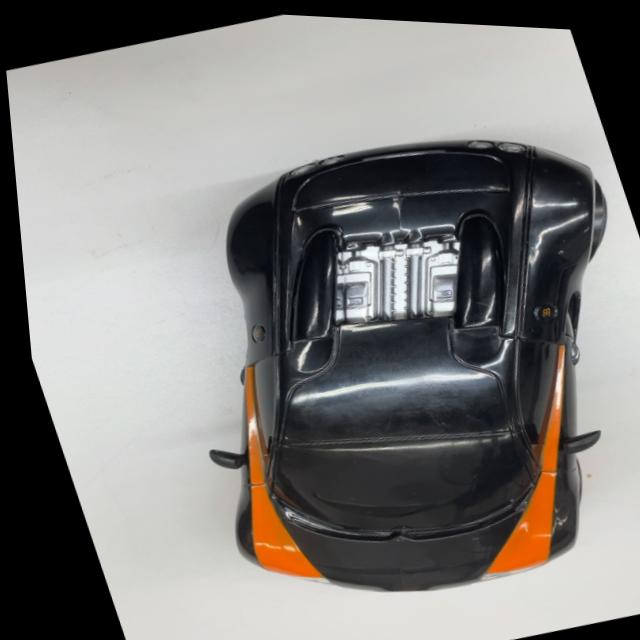vehicle_body: (102, 83, 640, 640)
